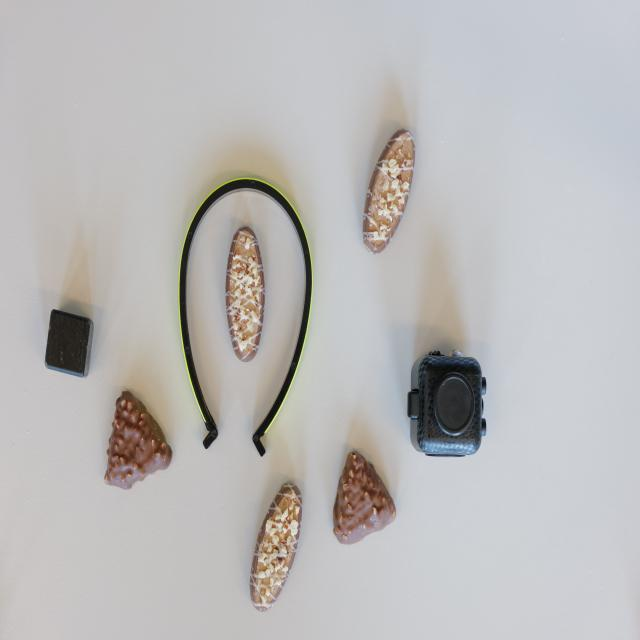Amandina: (249, 480, 303, 611), (364, 128, 416, 255), (226, 225, 265, 362)
Triangolo: (105, 389, 173, 491), (332, 446, 396, 544)
